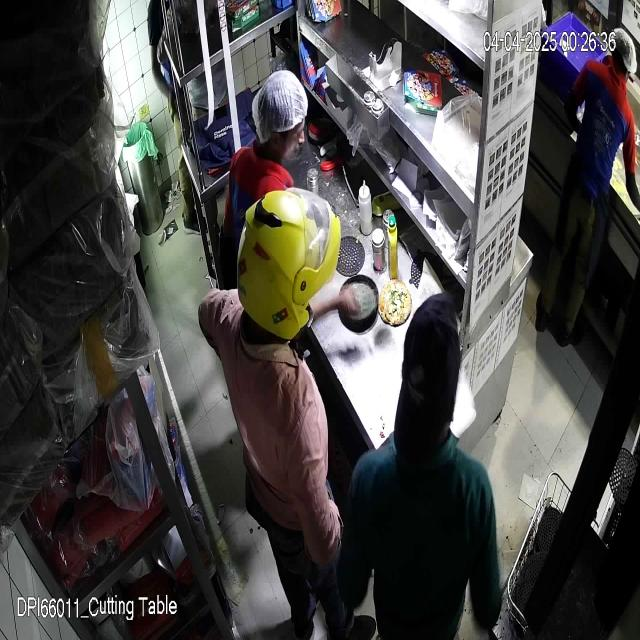helmet: (235, 186, 341, 346)
no_helmet: (393, 294, 459, 463), (251, 70, 309, 164)
